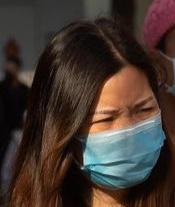OK: (79, 90, 163, 188)
